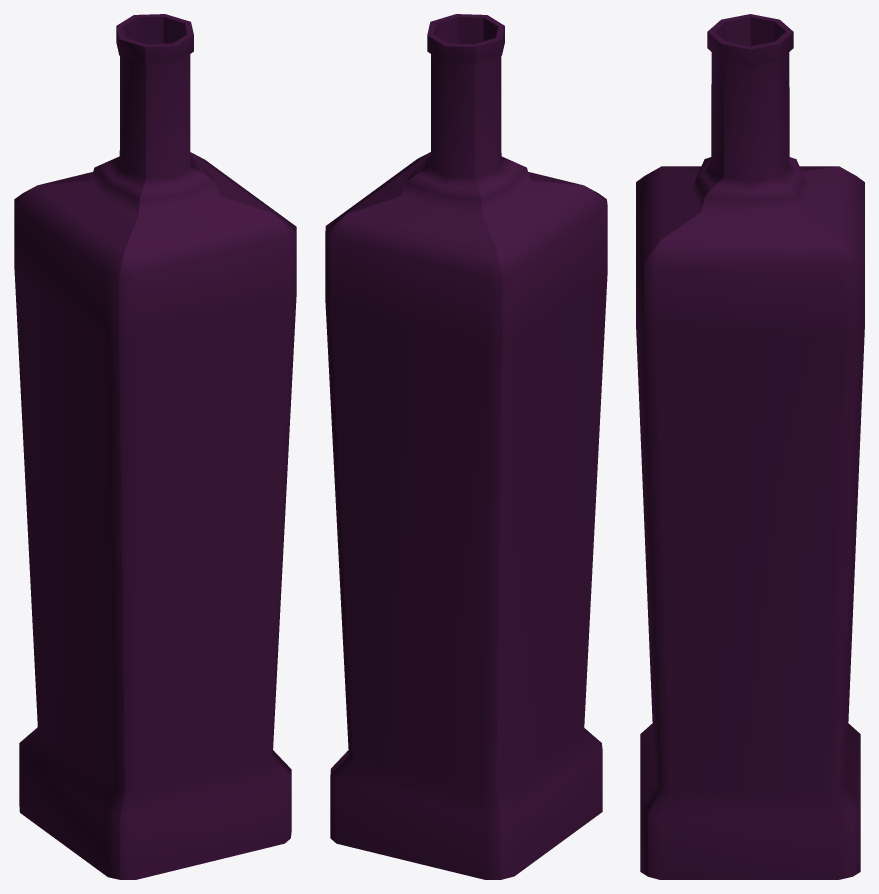
File: ING_Bottle_Vodka_v01.fbx
3 renders of one model, left to right at view 1: azimuth 30°, elevation 25°; view 2: azimuth 150°, elevation 25°; view 3: azimuth 270°, elevation 25°, orthographic.
Parts seen in each view (by area): view 1: Rest_Bar_Set03_VodkaBottle_01; view 2: Rest_Bar_Set03_VodkaBottle_01; view 3: Rest_Bar_Set03_VodkaBottle_01.
Part boxes in pixels (<box>): Rest_Bar_Set03_VodkaBottle_01: <box>14,14,296,879</box>; Rest_Bar_Set03_VodkaBottle_01: <box>325,14,607,879</box>; Rest_Bar_Set03_VodkaBottle_01: <box>636,14,864,879</box>.
Bounding box in the file's own units: 2.37 × 9.41 × 2.43.
